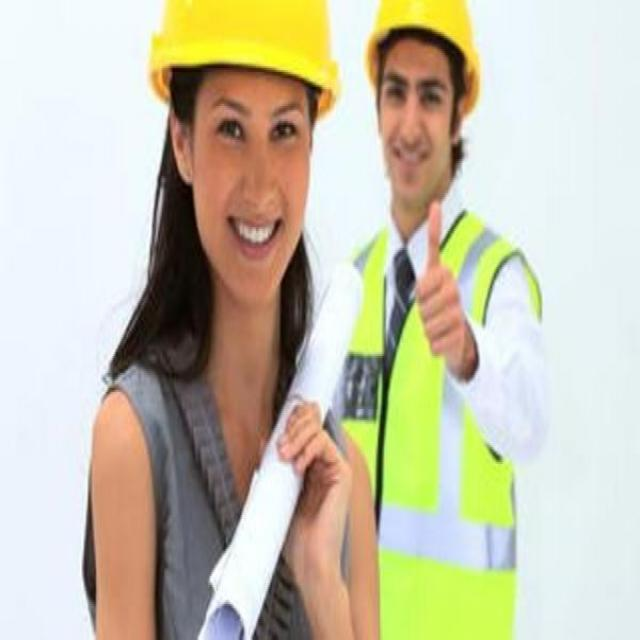Reflective-Jacket: (343, 210, 530, 629)
Safety-Helmet: (142, 0, 348, 106), (359, 0, 487, 98)
